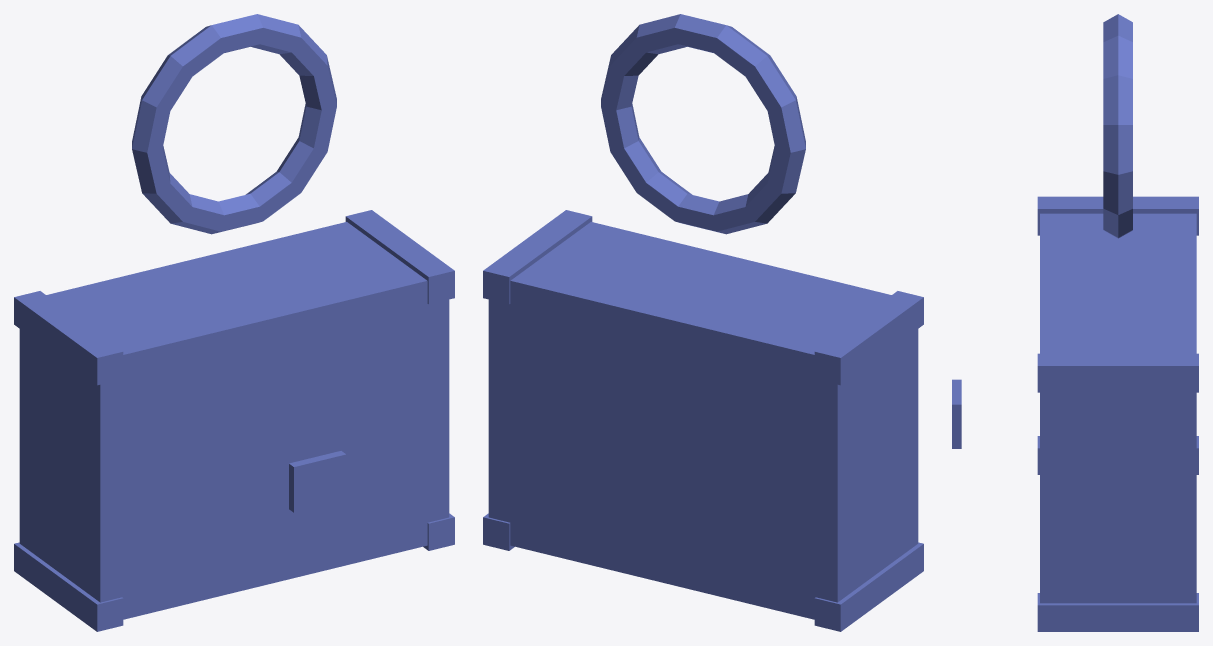
File: Suitcase.fbx
3 renders of one model, left to right at view 1: azimuth 30°, elevation 25°; view 2: azimuth 150°, elevation 25°; view 3: azimuth 270°, elevation 25°, orthographic. The views are drawn at different scales.
Visible parts, largest first — view 1: suitcase; view 2: suitcase; view 3: suitcase.
Part boxes in pixels (x1=…): suitcase: x1=14, y1=14, x2=454, y2=631; suitcase: x1=483, y1=14, x2=923, y2=631; suitcase: x1=952, y1=14, x2=1198, y2=631.
Bounding box in the file's own units: 82 × 118 × 50.5.
